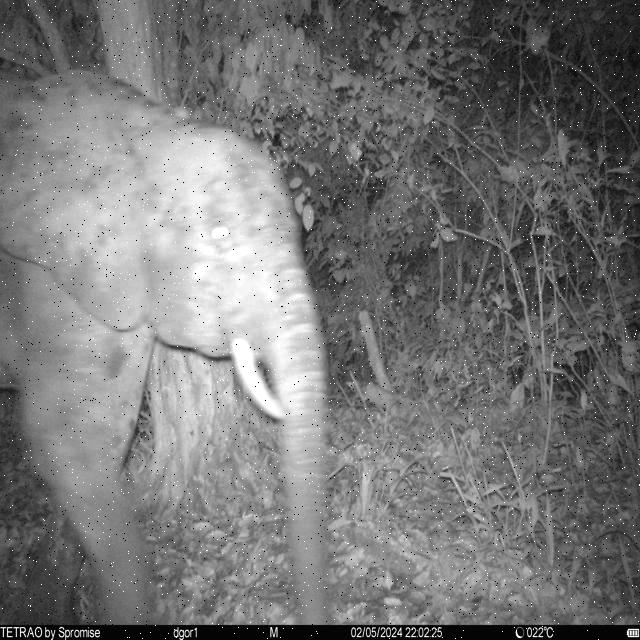ear: (0, 76, 156, 334)
elephant: (0, 68, 330, 624)
tusk: (229, 338, 286, 422)
